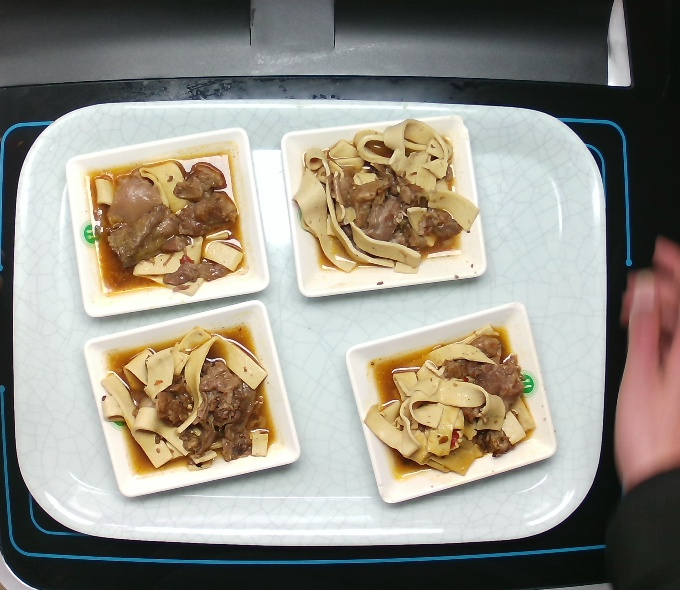wcq-QianZhangNiuNan: (287, 114, 479, 276), (358, 313, 538, 478), (93, 318, 276, 478), (83, 141, 247, 292)
